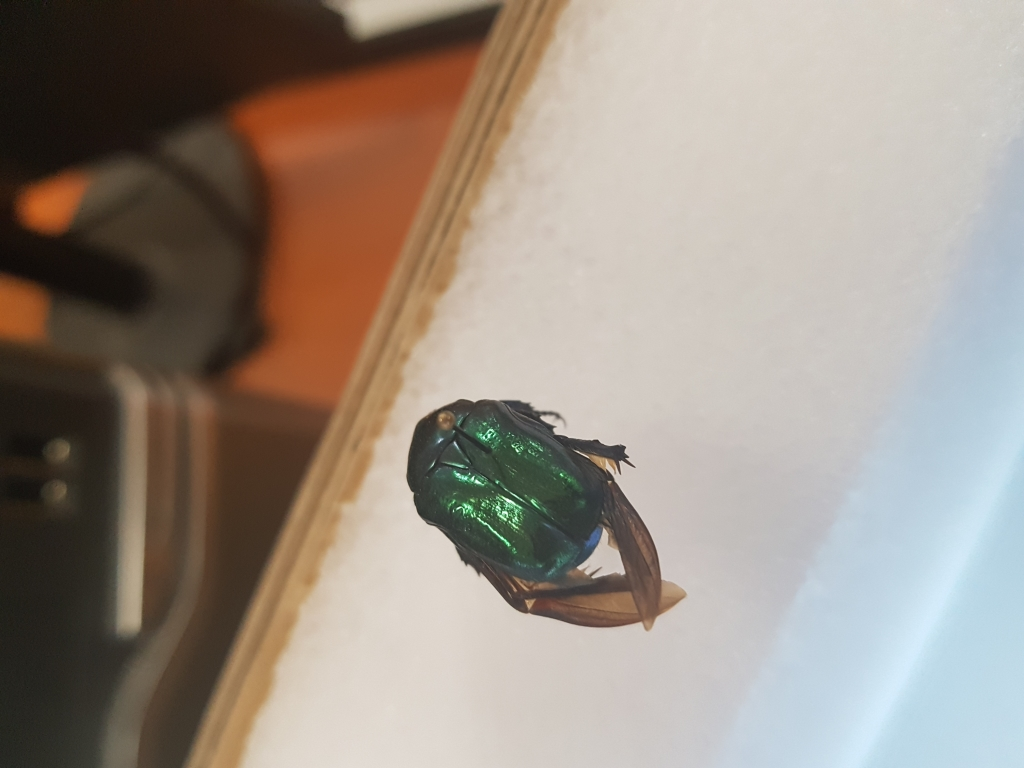Protaetia_angustata_angustata: (400, 378, 694, 633)
